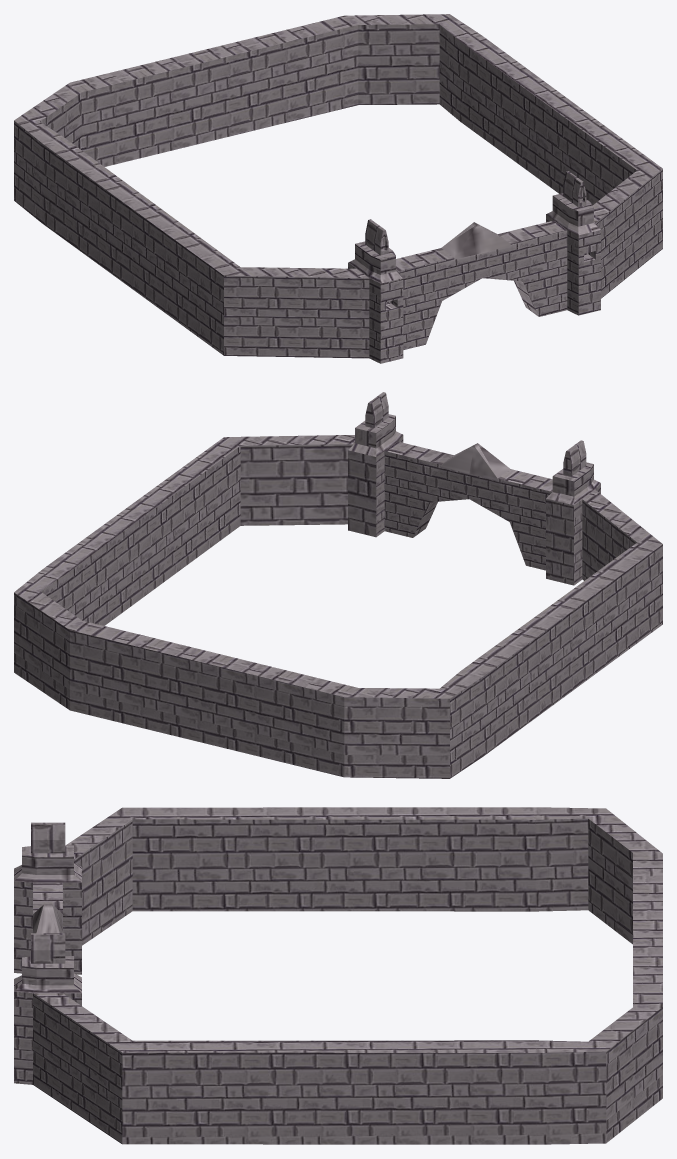
Rendered from CastleWallOutside_Asset.fbx.
The picture shows the model from 3 angles, top to bottom: view 1: azimuth 30°, elevation 25°; view 2: azimuth 150°, elevation 25°; view 3: azimuth 270°, elevation 25°; orthographic projection. The views are drawn at different scales.
Visible parts, largest first — view 1: CastleOutsideWalls_Asset; view 2: CastleOutsideWalls_Asset; view 3: CastleOutsideWalls_Asset.
Boxes of the visible parts, x1,y1,x2,y2 form: CastleOutsideWalls_Asset: [14, 14, 662, 363]; CastleOutsideWalls_Asset: [14, 392, 662, 778]; CastleOutsideWalls_Asset: [14, 807, 662, 1144].
Size of the model in its own units: 28.71 by 7.8 by 32.04.
